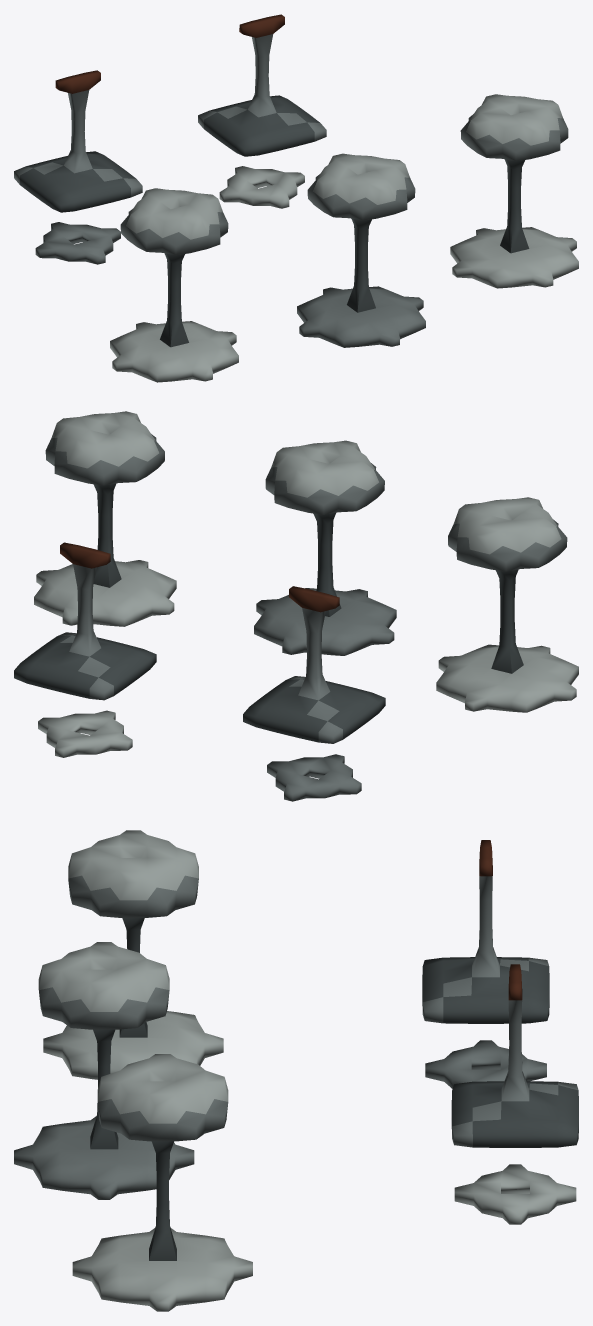
The model's file is hardware-3.glb.
3 views of the same model, one above another, from view 1: azimuth 30°, elevation 25°; view 2: azimuth 150°, elevation 25°; view 3: azimuth 270°, elevation 25° (orthographic). The views are drawn at different scales.
Parts seen in each view (by area): view 1: __playground; view 2: __playground; view 3: __playground.
Part boxes in pixels (bbox=[...]): __playground: bbox=[14, 14, 578, 382]; __playground: bbox=[14, 411, 578, 801]; __playground: bbox=[14, 830, 578, 1311].
Size of the model in its own units: 0.775 by 0.276 by 0.6175.
